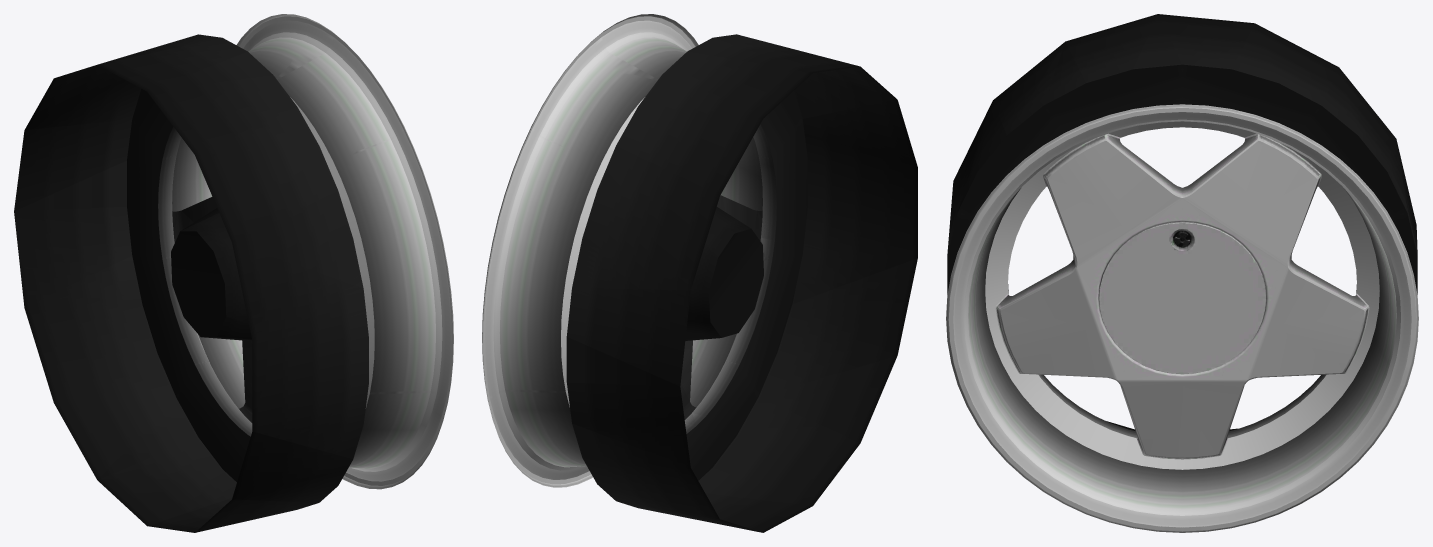
File: wheel28.fbx
The picture shows the model from 3 angles, left to right: view 1: azimuth 30°, elevation 25°; view 2: azimuth 150°, elevation 25°; view 3: azimuth 270°, elevation 25°; orthographic projection. The views are drawn at different scales.
Parts seen in each view (by area): view 1: bor_a_wheel_wheel_inner_rim_, bor_a_wheel_wheel_rim_, wheel_rim; view 2: bor_a_wheel_wheel_inner_rim_, bor_a_wheel_wheel_rim_, wheel_rim; view 3: bor_a_wheel_wheel_rim_, wheel_rim, bor_a_wheel_wheel_inner_rim_.
Part boxes in pixels (x1=…): bor_a_wheel_wheel_inner_rim_: x1=14, y1=34, x2=368, y2=532; bor_a_wheel_wheel_rim_: x1=158, y1=14, x2=453, y2=489; wheel_rim: x1=158, y1=14, x2=453, y2=489; bor_a_wheel_wheel_inner_rim_: x1=566, y1=34, x2=917, y2=532; bor_a_wheel_wheel_rim_: x1=482, y1=15, x2=776, y2=487; wheel_rim: x1=482, y1=14, x2=776, y2=487; bor_a_wheel_wheel_rim_: x1=946, y1=104, x2=1418, y2=532; wheel_rim: x1=953, y1=104, x2=1411, y2=527; bor_a_wheel_wheel_inner_rim_: x1=947, y1=14, x2=1417, y2=430.
Size of the model in its own units: 0.2272 by 0.48 by 0.48.
Materials: 1 (1 with a texture image).
